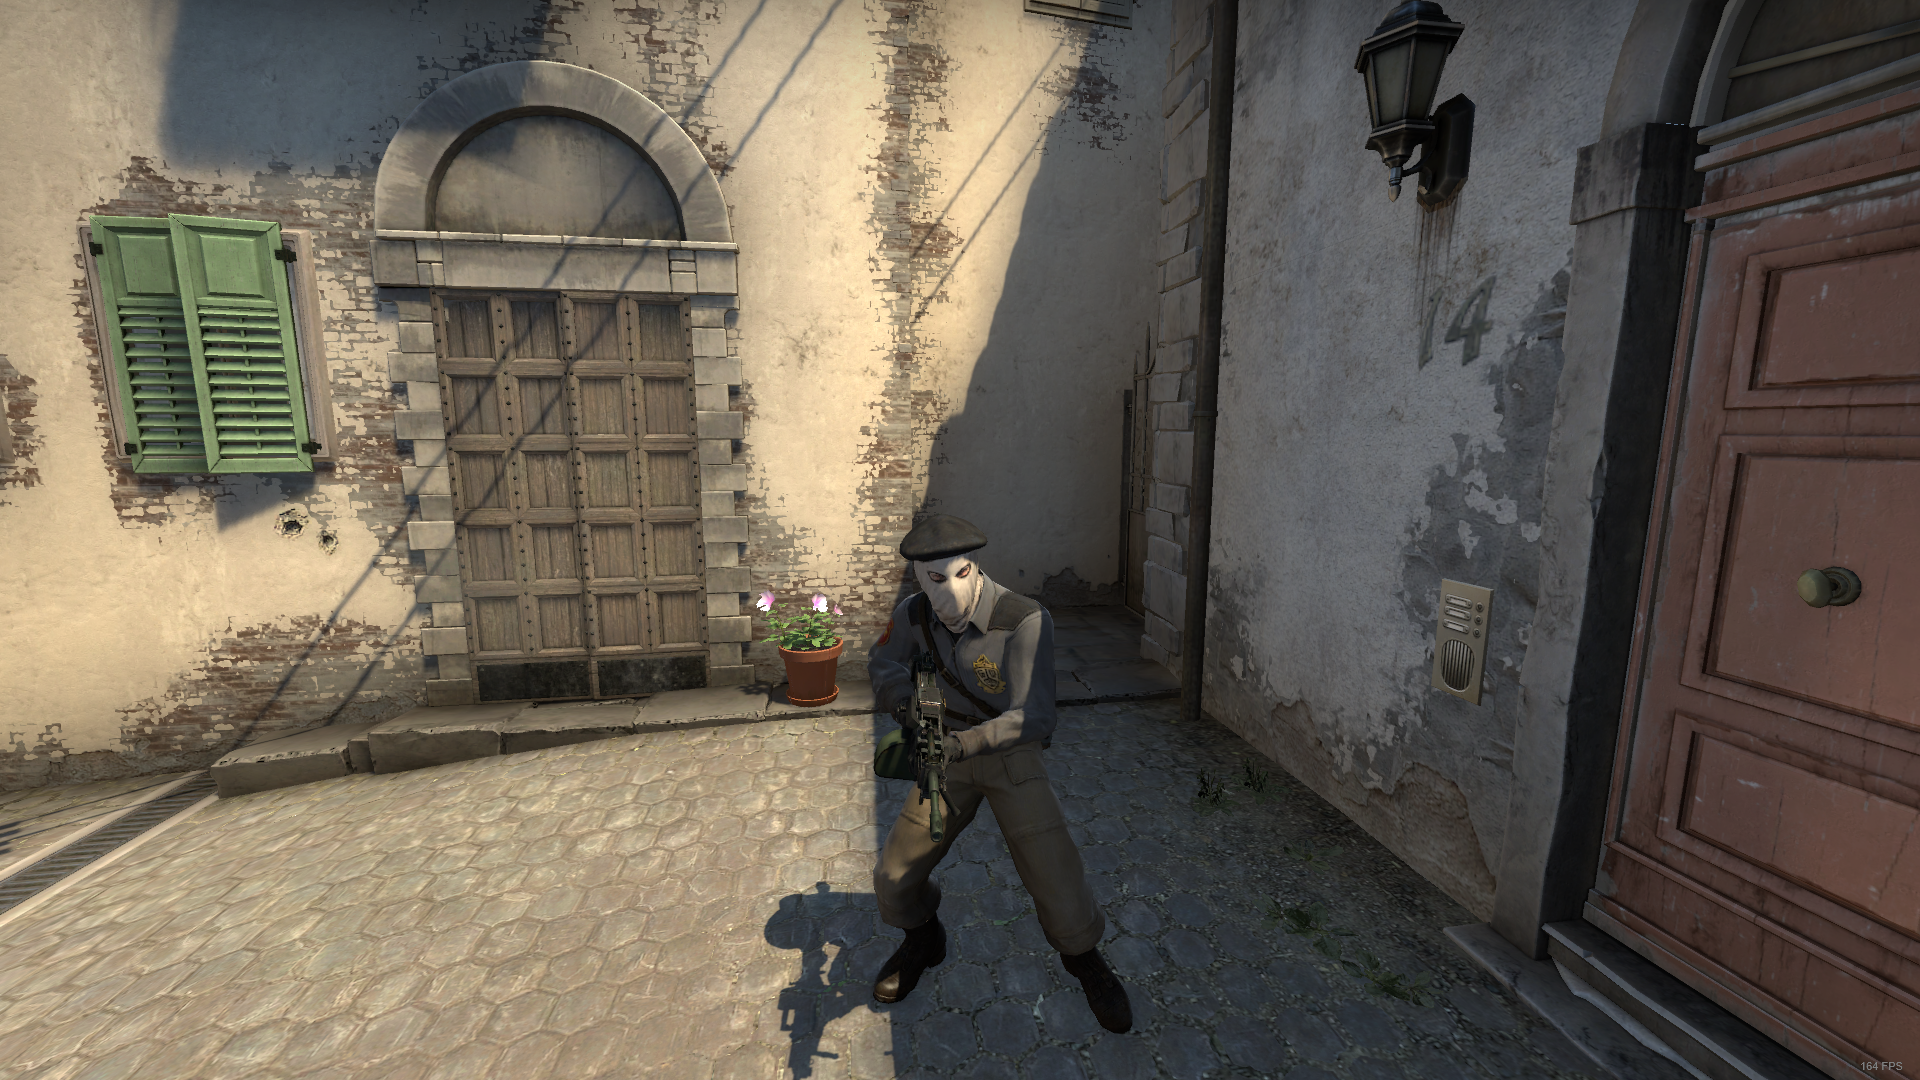t: (869, 516, 1139, 1033)
